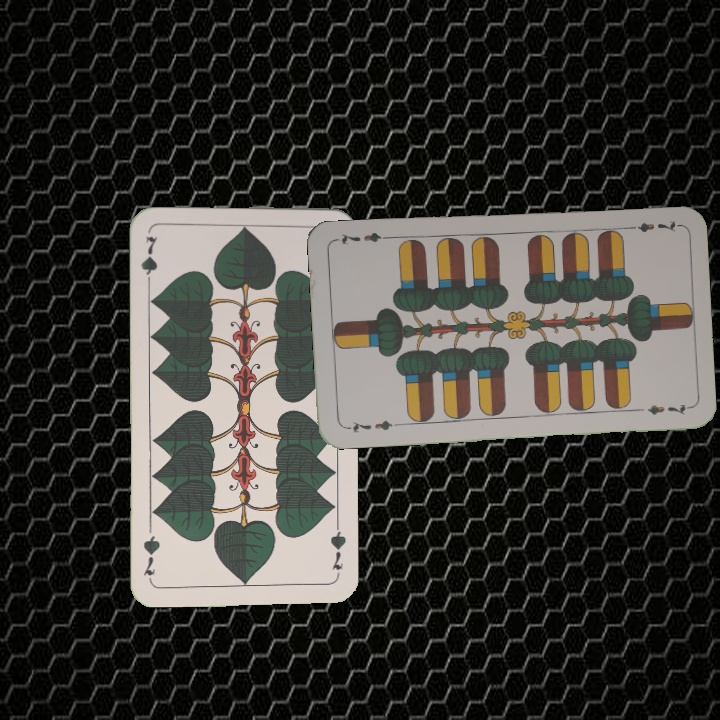E7: (341, 416, 401, 436), (621, 216, 681, 235)
G7: (137, 232, 160, 291), (326, 521, 349, 572)
